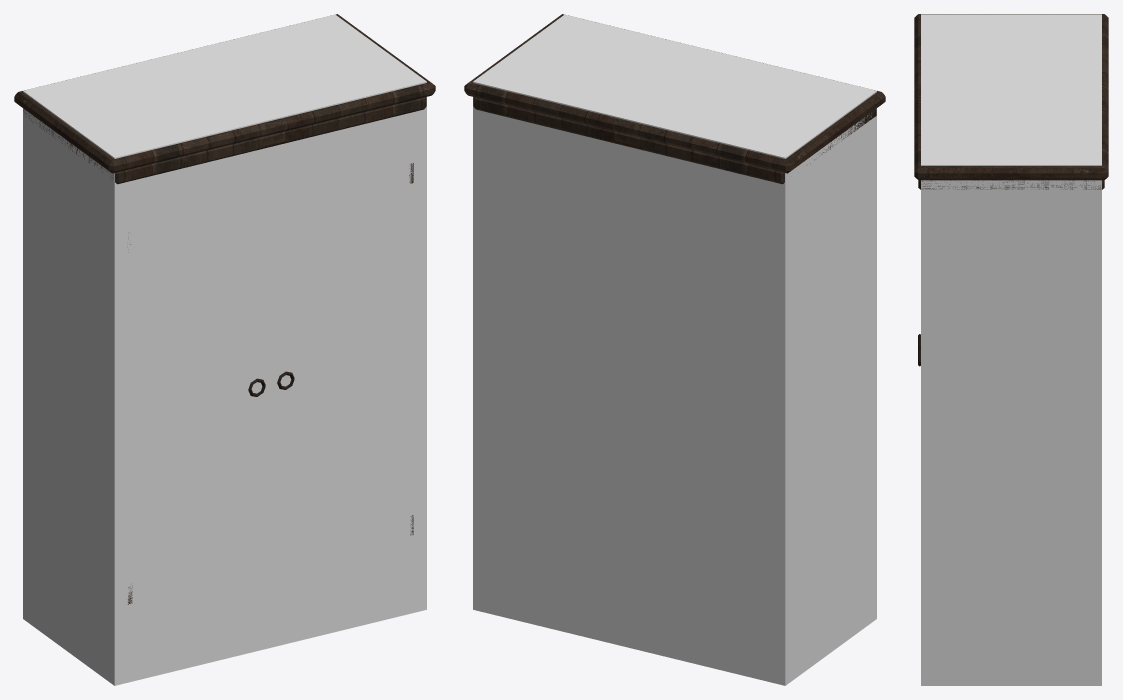
The model's file is wardrobe.glb.
3 renders of one model, left to right at view 1: azimuth 30°, elevation 25°; view 2: azimuth 150°, elevation 25°; view 3: azimuth 270°, elevation 25°, orthographic.
Visible parts, largest first — view 1: col_wardrobe, wardrobe_body; view 2: col_wardrobe, wardrobe_body; view 3: col_wardrobe, wardrobe_body.
Part boxes in pixels (x1=…): col_wardrobe: x1=23, y1=14, x2=426, y2=685; wardrobe_body: x1=14, y1=14, x2=435, y2=184; col_wardrobe: x1=473, y1=14, x2=876, y2=685; wardrobe_body: x1=464, y1=14, x2=885, y2=184; col_wardrobe: x1=921, y1=14, x2=1101, y2=685; wardrobe_body: x1=914, y1=14, x2=1108, y2=189.
Size of the model in its own units: 1.36 by 2.11 by 0.71.
4 materials, 3 textured.
